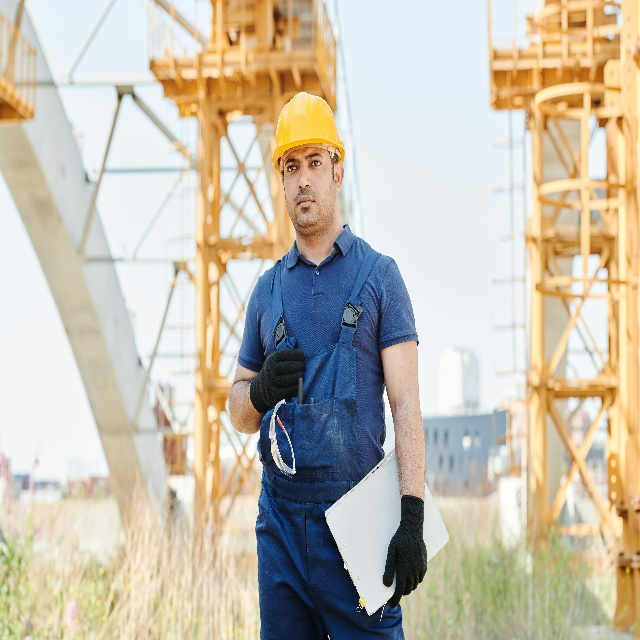Gafas: (268, 400, 296, 478)
Guantes: (382, 494, 426, 608), (249, 348, 305, 413)
